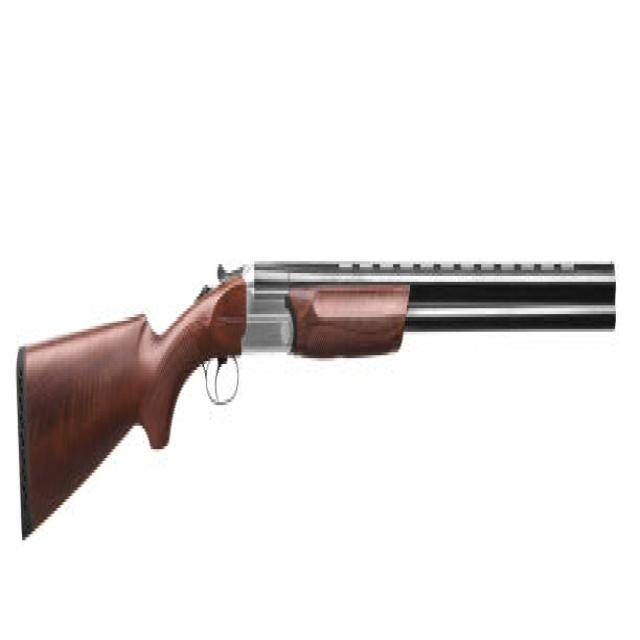rifle: (13, 233, 622, 560)
